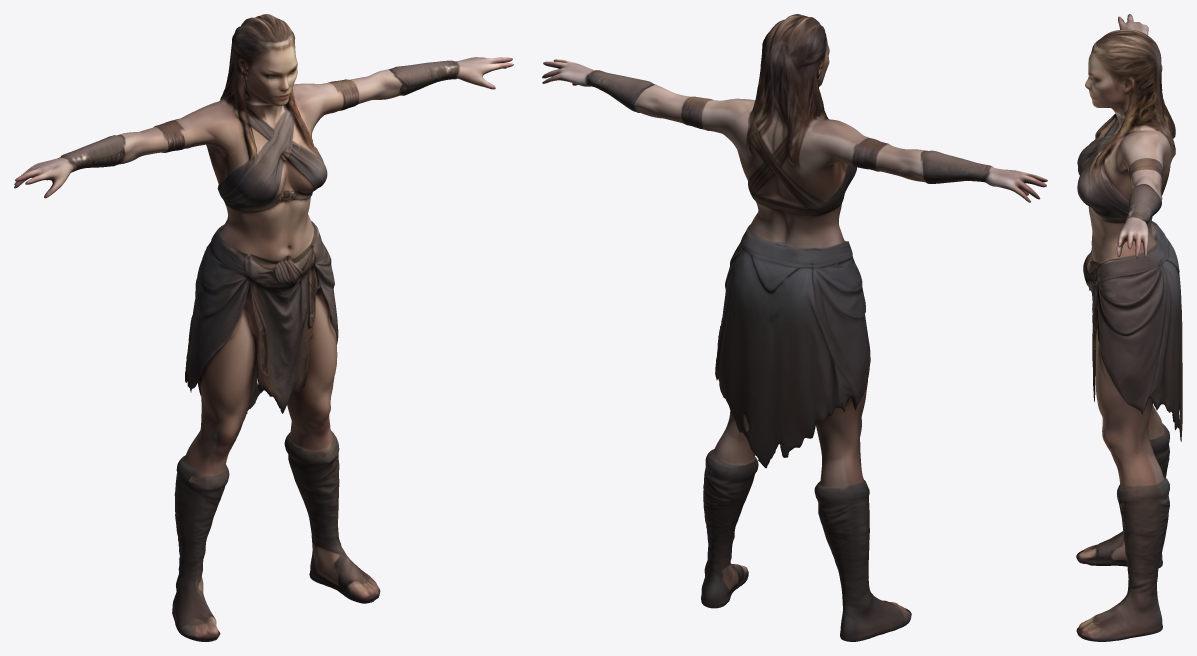
The model's file is base_basic_pbr.fbx.
3 renders of one model, left to right at view 1: azimuth 30°, elevation 25°; view 2: azimuth 150°, elevation 25°; view 3: azimuth 270°, elevation 25°, orthographic. The views are drawn at different scales.
Parts seen in each view (by area): view 1: model; view 2: model; view 3: model.
Part boxes in pixels (x1,y1,x2,y2): model: (14,14,513,641); model: (542,14,1047,641); model: (1076,14,1182,641).
Size of the model in its own units: 153 by 172 by 29.4.
Materials: 1 (1 with a texture image).
